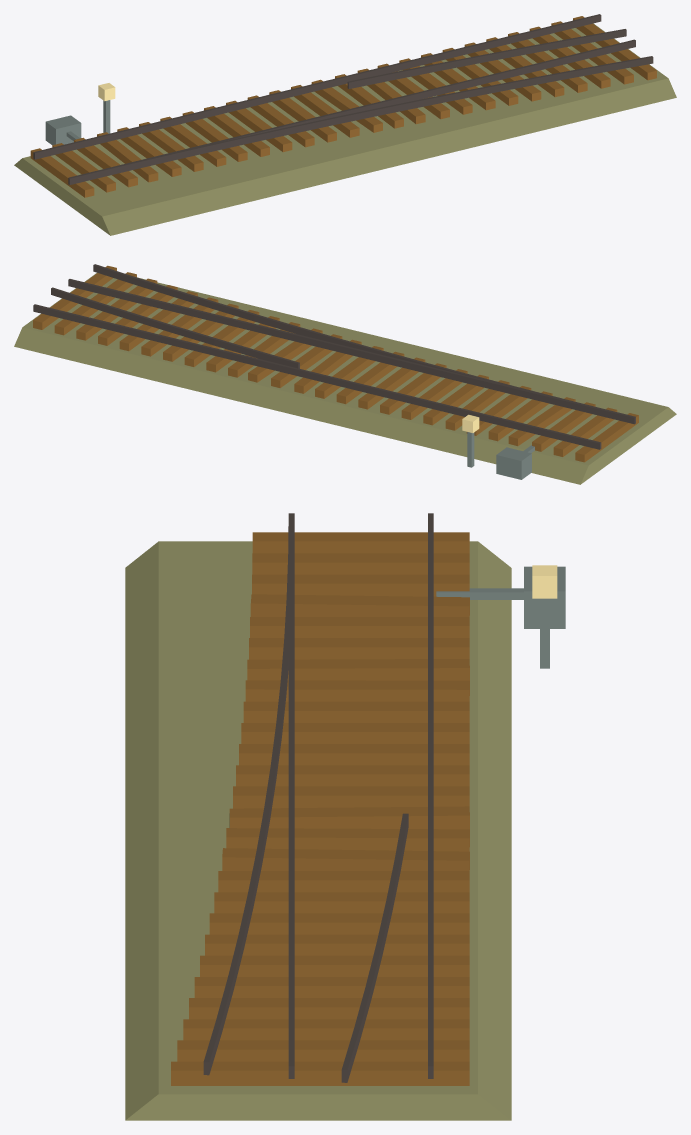
Rendered from SM_Via_DesvioDer_v1_Madera_LOD0.fbx.
3 views of the same model, one above another, from view 1: azimuth 30°, elevation 25°; view 2: azimuth 150°, elevation 25°; view 3: azimuth 270°, elevation 25° (orthographic). The views are drawn at different scales.
Parts seen in each view (by area): view 1: SM_via_trazado_v31_LOD0; view 2: SM_via_trazado_v31_LOD0; view 3: SM_via_trazado_v31_LOD0.
Part boxes in pixels (x1,y1,x2,y2): SM_via_trazado_v31_LOD0: (14, 14, 676, 235); SM_via_trazado_v31_LOD0: (14, 264, 676, 484); SM_via_trazado_v31_LOD0: (125, 513, 565, 1120).
Bounding box in the file's own units: 15.78 × 1.27 × 5.28.
